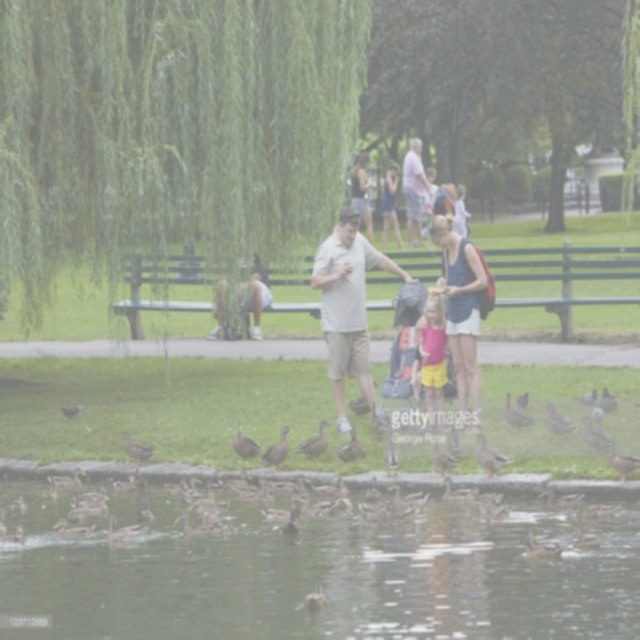pessoa: (308, 202, 423, 436), (428, 212, 489, 436), (205, 251, 274, 342), (418, 290, 451, 432), (400, 135, 434, 249), (346, 150, 375, 247), (412, 166, 442, 248), (380, 157, 406, 250), (408, 313, 429, 412), (453, 183, 472, 240)
